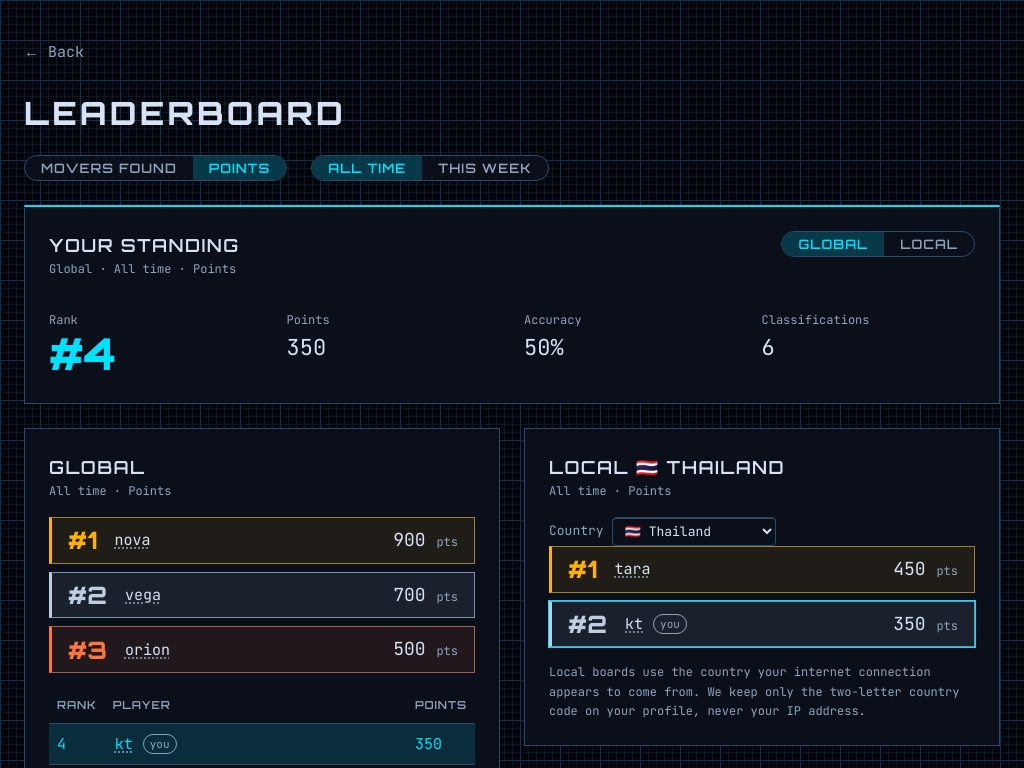
Scenario: LeaderboardScreen standing card › shows my rank, points, accuracy and classifications, and switches between global and local
The image size is (1024, 768).
Expected: the text "#4" is shown, [49,326,116,381]
Expected: the text "350" is shown, [286,333,326,362]
Click the button "Local" at (929, 244), box [884,232,974,256]
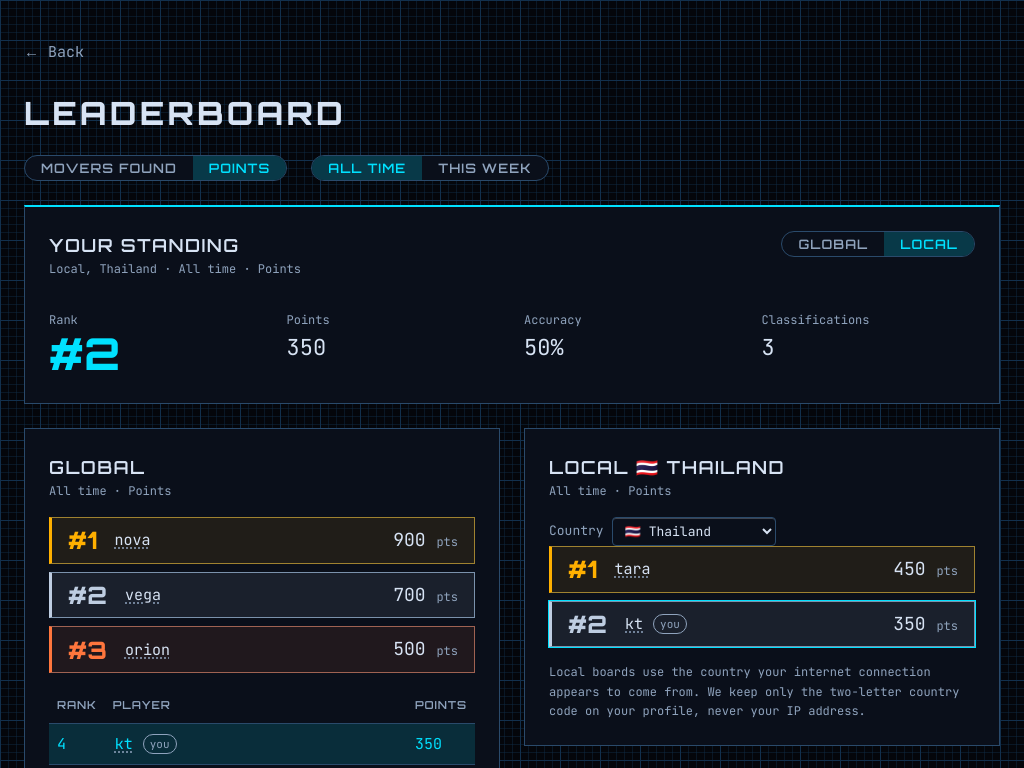
Now the text "#2" in the row of "50%" is shown, box [49,326,121,381]
Now the text "3" is shown, box [762,333,775,362]
Now the text "#4" is gone
